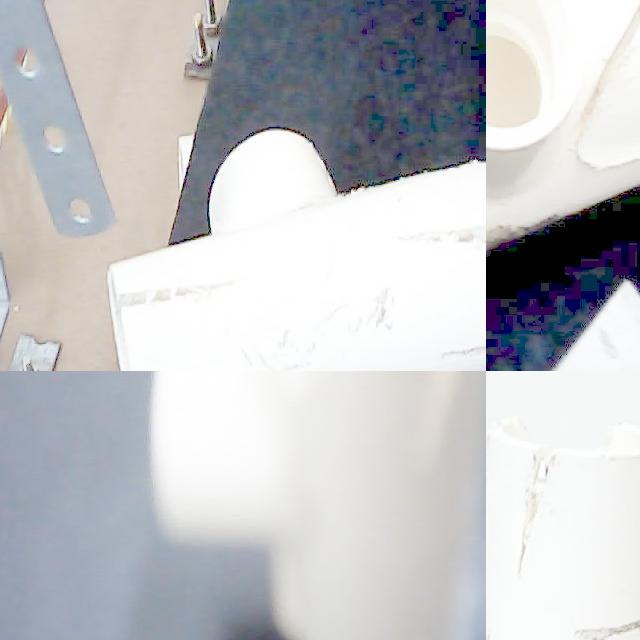Defective: (574, 0, 640, 200), (258, 292, 418, 371), (498, 402, 640, 477), (517, 443, 561, 595), (110, 273, 241, 319), (382, 206, 486, 261), (412, 371, 469, 452), (486, 219, 556, 262), (430, 324, 486, 368)
T Joint: (111, 118, 486, 371), (151, 371, 486, 640), (486, 418, 640, 640)
